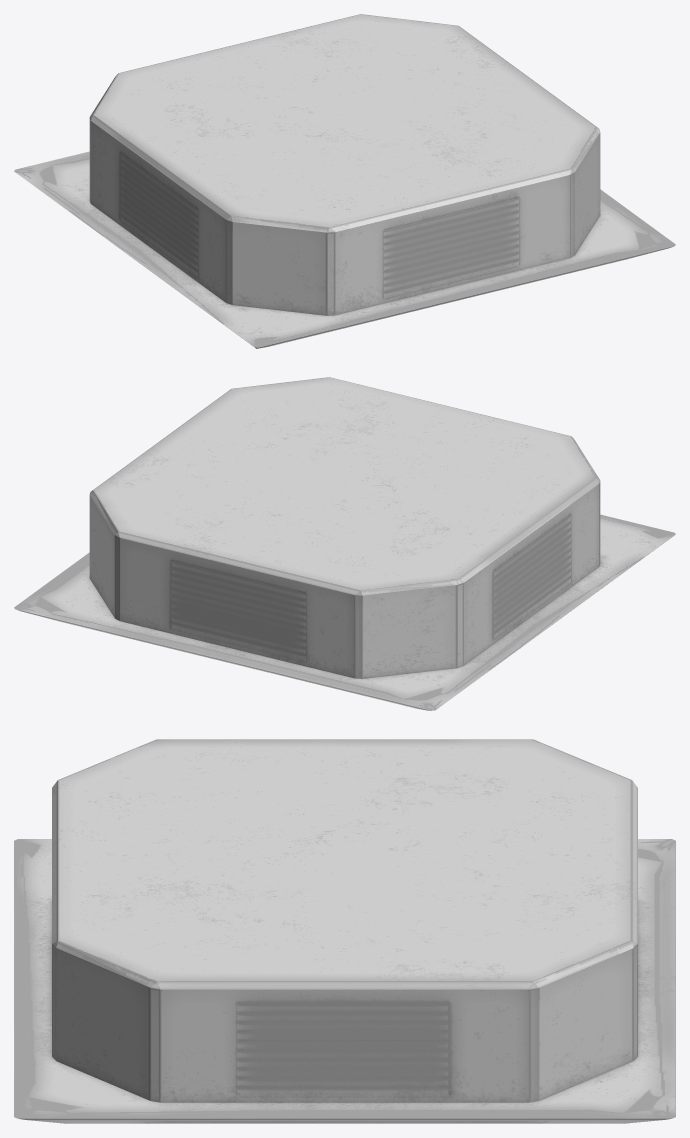
Rendered from Aircon.FBX.
The picture shows the model from 3 angles, top to bottom: view 1: azimuth 30°, elevation 25°; view 2: azimuth 150°, elevation 25°; view 3: azimuth 270°, elevation 25°; orthographic projection. The views are drawn at different scales.
Parts seen in each view (by area): view 1: Aircon_Lo; view 2: Aircon_Lo; view 3: Aircon_Lo.
Part boxes in pixels (<box>): Aircon_Lo: <box>14,14,675,348</box>; Aircon_Lo: <box>14,377,675,710</box>; Aircon_Lo: <box>14,739,675,1123</box>.
Bounding box in the file's own units: 94.56 × 22.84 × 94.56.
